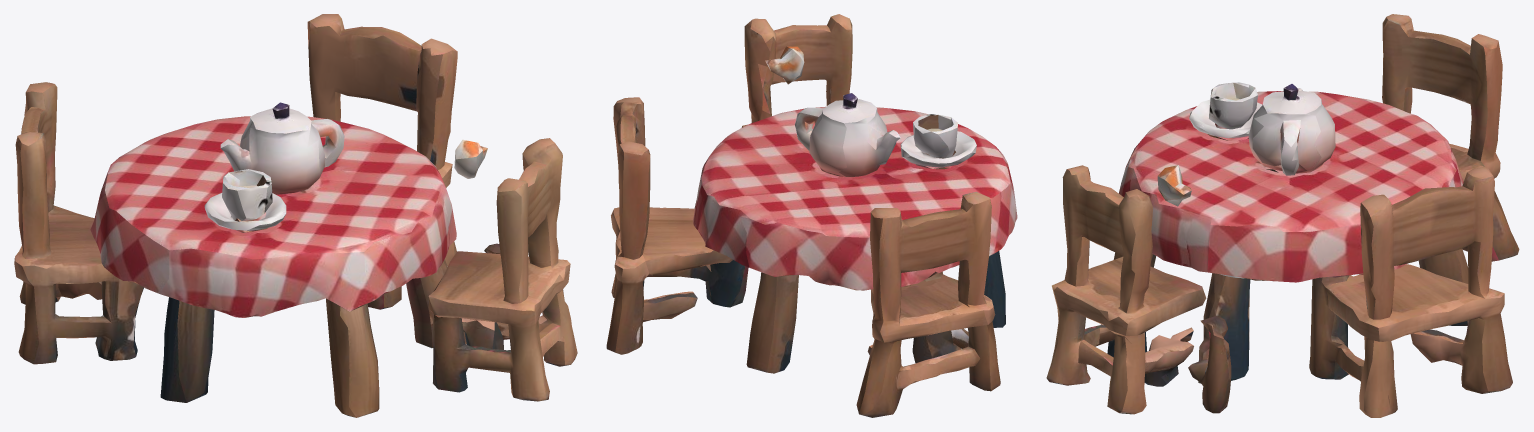
Rendered from table.glb.
3 views of the same model, side by side, from view 1: azimuth 30°, elevation 25°; view 2: azimuth 150°, elevation 25°; view 3: azimuth 270°, elevation 25° (orthographic). The views are drawn at different scales.
Visible parts, largest first — view 1: table_s11; view 2: table_s11; view 3: table_s11.
Part boxes in pixels (x1,y1,x2,y2): table_s11: (14, 14, 577, 417); table_s11: (606, 14, 1017, 417); table_s11: (1046, 14, 1519, 417).
Size of the model in its own units: 1 by 0.5395 by 0.9873.
Materials: 1 (1 with a texture image).
